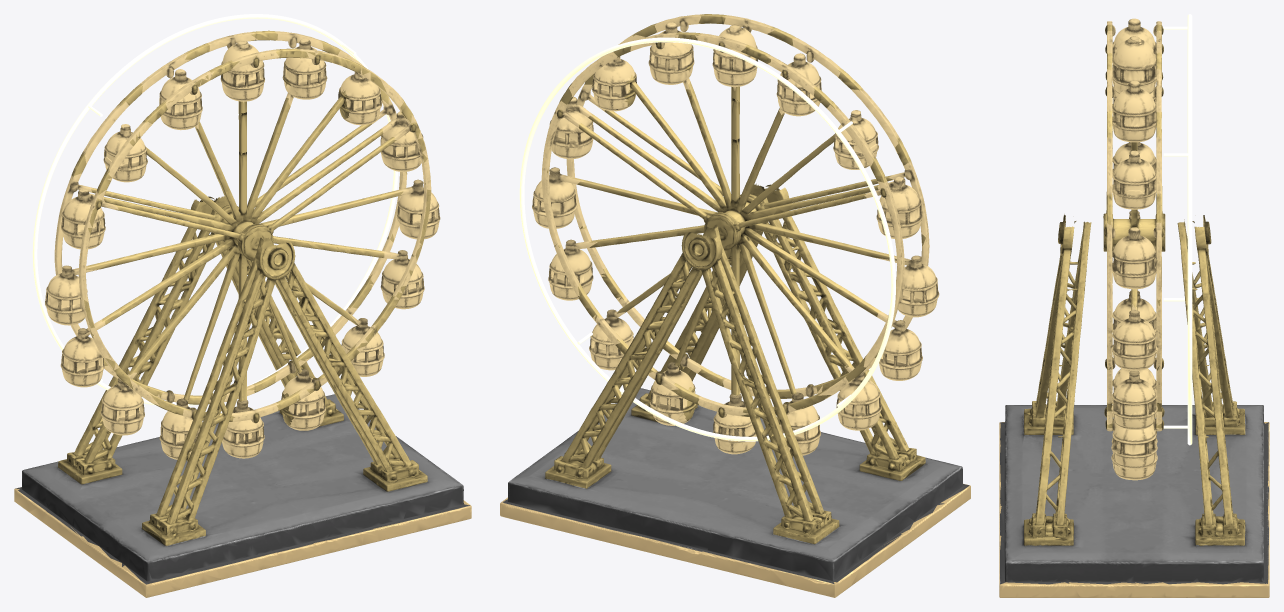
Rendered from ferris-wheel-legendary.v1.glb.
3 renders of one model, left to right at view 1: azimuth 30°, elevation 25°; view 2: azimuth 150°, elevation 25°; view 3: azimuth 270°, elevation 25°, orthographic. The views are drawn at different scales.
Visible parts, largest first — view 1: FerrisWheelTrophy; view 2: FerrisWheelTrophy; view 3: FerrisWheelTrophy.
Boxes of the visible parts, x1=… form: FerrisWheelTrophy: x1=14, y1=14, x2=471, y2=597; FerrisWheelTrophy: x1=500, y1=14, x2=970, y2=597; FerrisWheelTrophy: x1=999, y1=14, x2=1269, y2=597.
Size of the model in its own units: 0.864 by 1 by 0.5081.
Materials: 5 (4 with a texture image).
